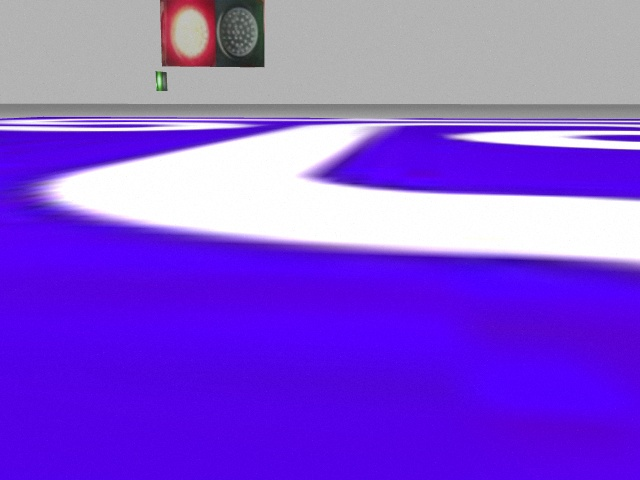red: (160, 1, 215, 63)
